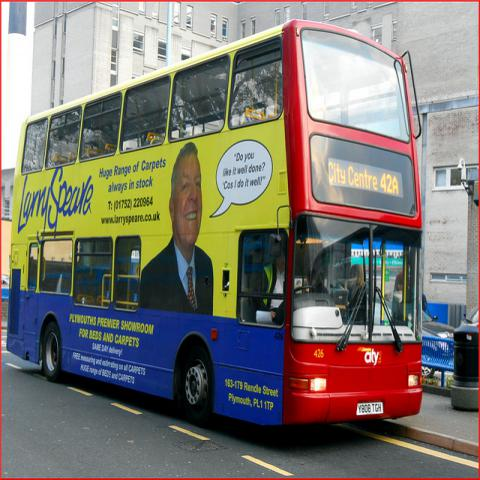bus: (7, 21, 423, 429)
car: (422, 310, 455, 341), (460, 302, 479, 327)
